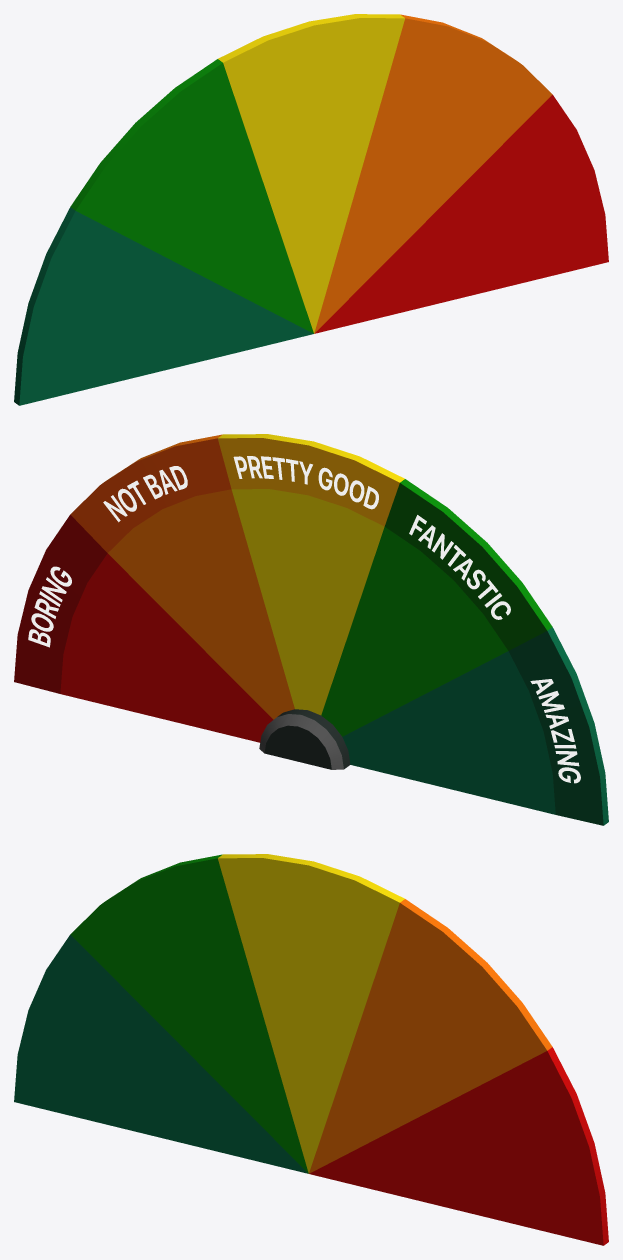
File: meter_board.glb
3 views of the same model, one above another, from view 1: azimuth 30°, elevation 25°; view 2: azimuth 150°, elevation 25°; view 3: azimuth 330°, elevation 25° (orthographic).
Visible parts, largest first — view 1: board; view 2: board, text, anchor; view 3: board.
Boxes of the visible parts, bbox=[...] form: board: bbox=[14, 14, 608, 405]; board: bbox=[14, 434, 608, 825]; text: bbox=[28, 456, 580, 783]; anchor: bbox=[259, 709, 350, 769]; board: bbox=[14, 854, 608, 1245].
Size of what is drawn, in the model's own units: 5.6 by 2.8 by 0.2626.
2 materials, 2 textured.
